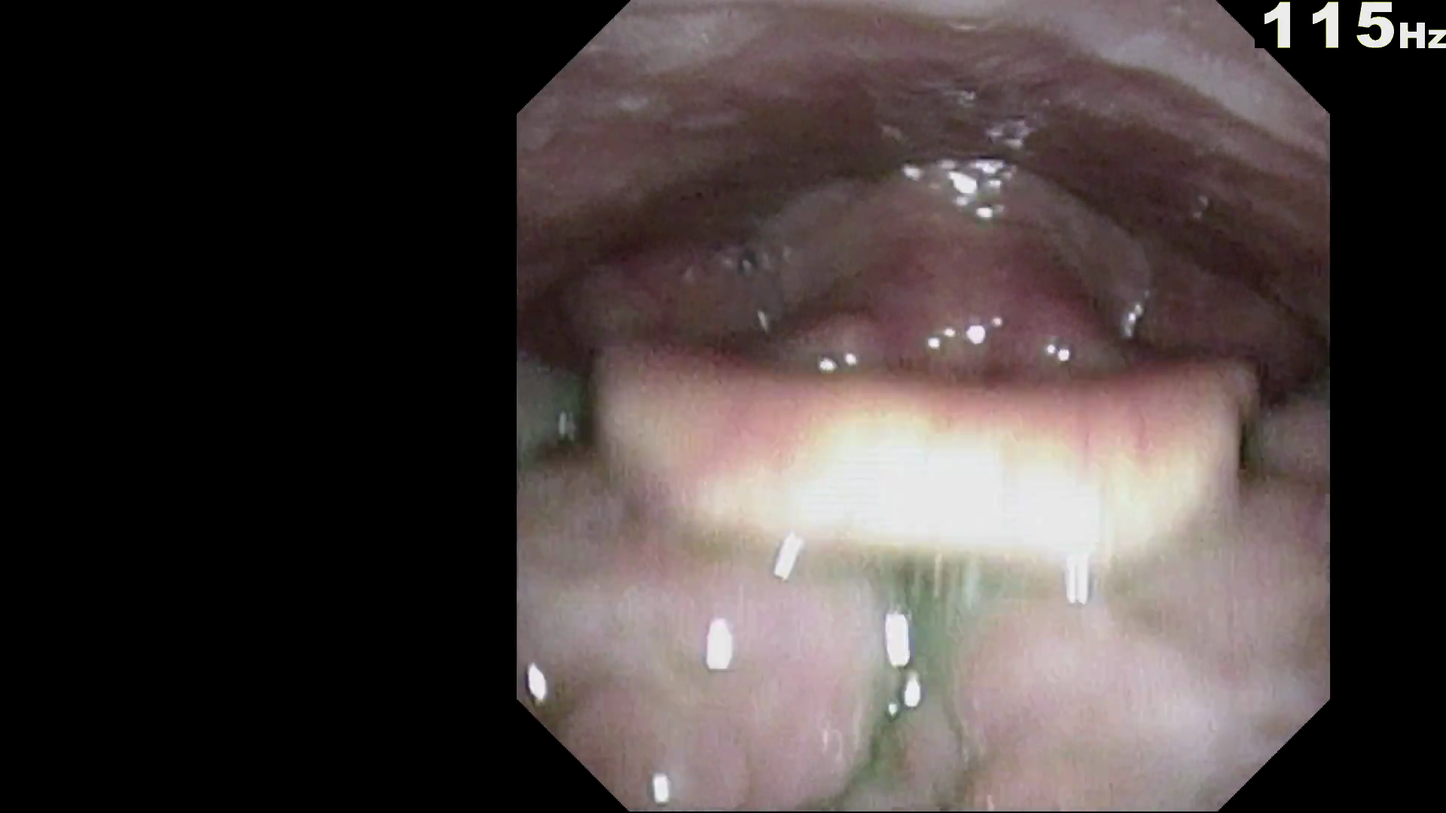epiglottis: (560, 321, 1281, 560)
trachea: (924, 340, 1047, 480), (859, 355, 1045, 447)
